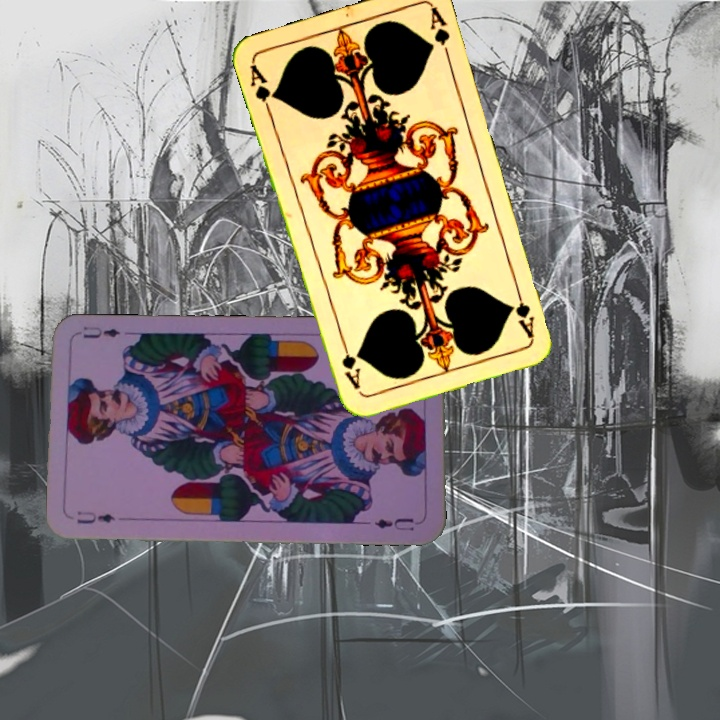EU: (73, 507, 118, 526)
GA: (245, 60, 280, 117), (510, 282, 537, 340)
